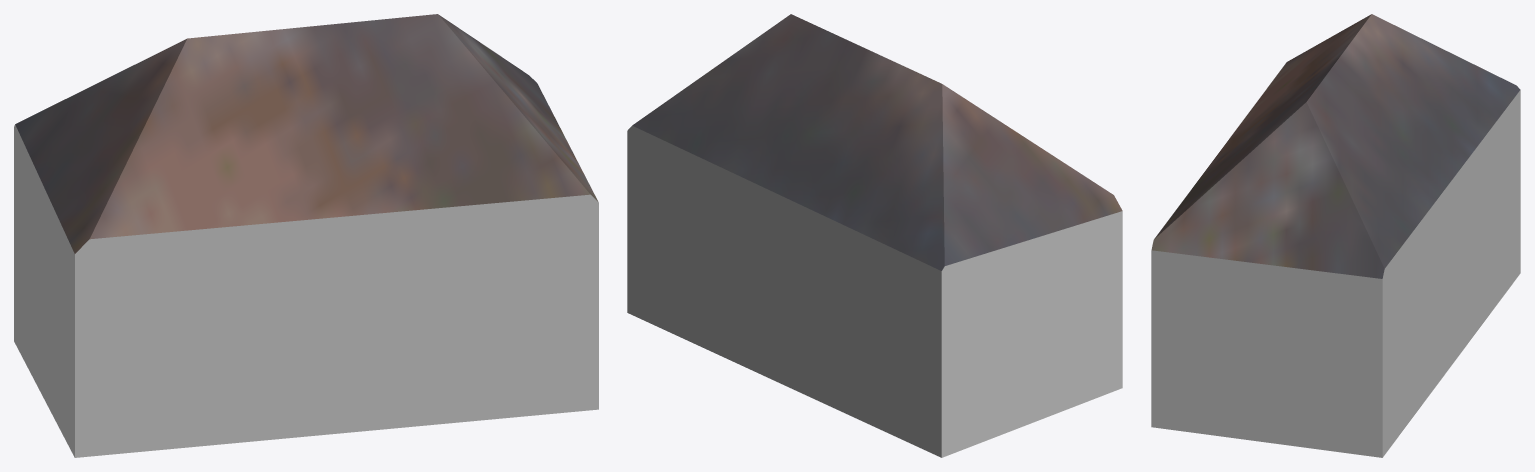
The model's file is DEBW_0010007Tx9O.gltf.
The picture shows the model from 3 angles, left to right: view 1: azimuth 30°, elevation 25°; view 2: azimuth 150°, elevation 25°; view 3: azimuth 270°, elevation 25°; orthographic projection. The views are drawn at different scales.
Parts seen in each view (by area): view 1: Z_UP; view 2: Z_UP; view 3: Z_UP.
Boxes of the visible parts, x1,y1,x2,y2 form: Z_UP: [14, 14, 598, 457]; Z_UP: [627, 14, 1122, 457]; Z_UP: [1151, 14, 1520, 457].
Size of the model in its own units: 7.98 by 5.11 by 5.78.
Materials: 2 (1 with a texture image).
